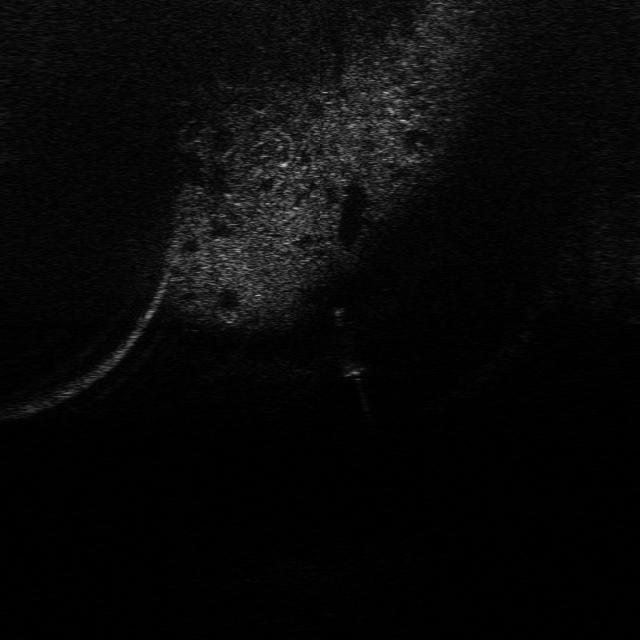cube: (332, 354, 372, 379)
cylinder: (327, 303, 352, 331)
